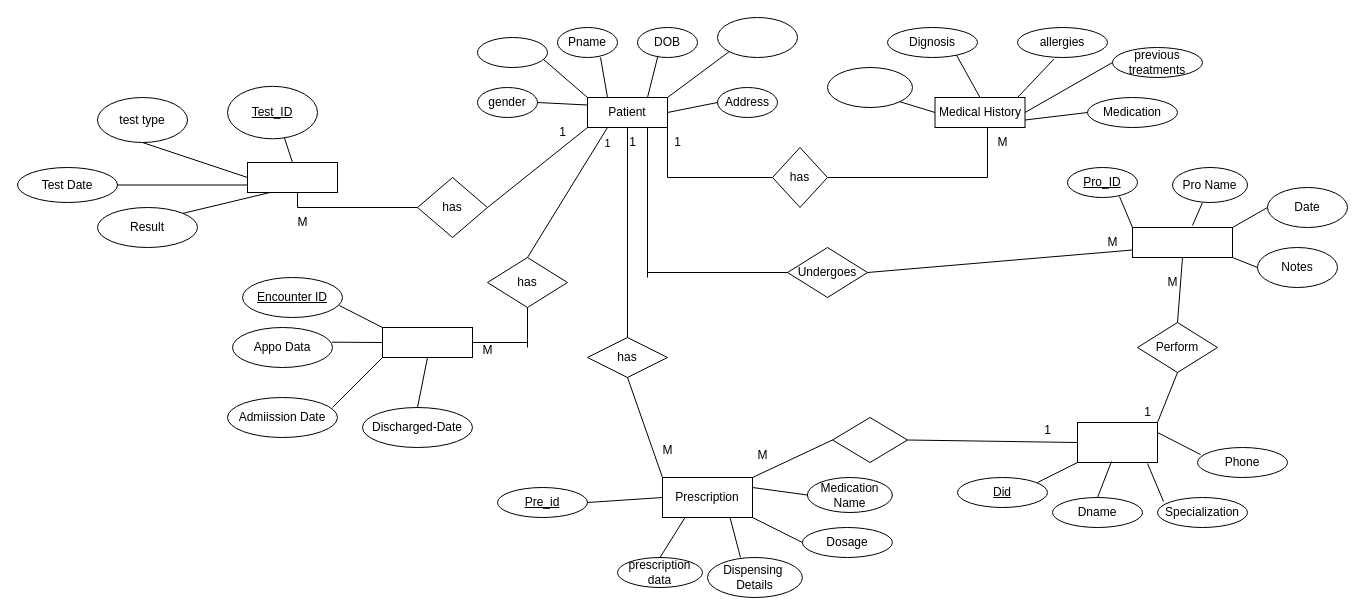
The diagram is 1365 pixels wide and 615 high, and some of its shapes have lost their labels. The shapes that lost their labels are listed below. From the top down, each one's centre as x and y in pixels, then its label:
(512,52): Pid
(757,37): Insurance Information
(869,87): Medical_ID
(292,177): Dignostic Test
(1182,242): Procedures & Surgeries
(427,342): Encounter Records
(870,439): Writes
(1117,442): Doctor
